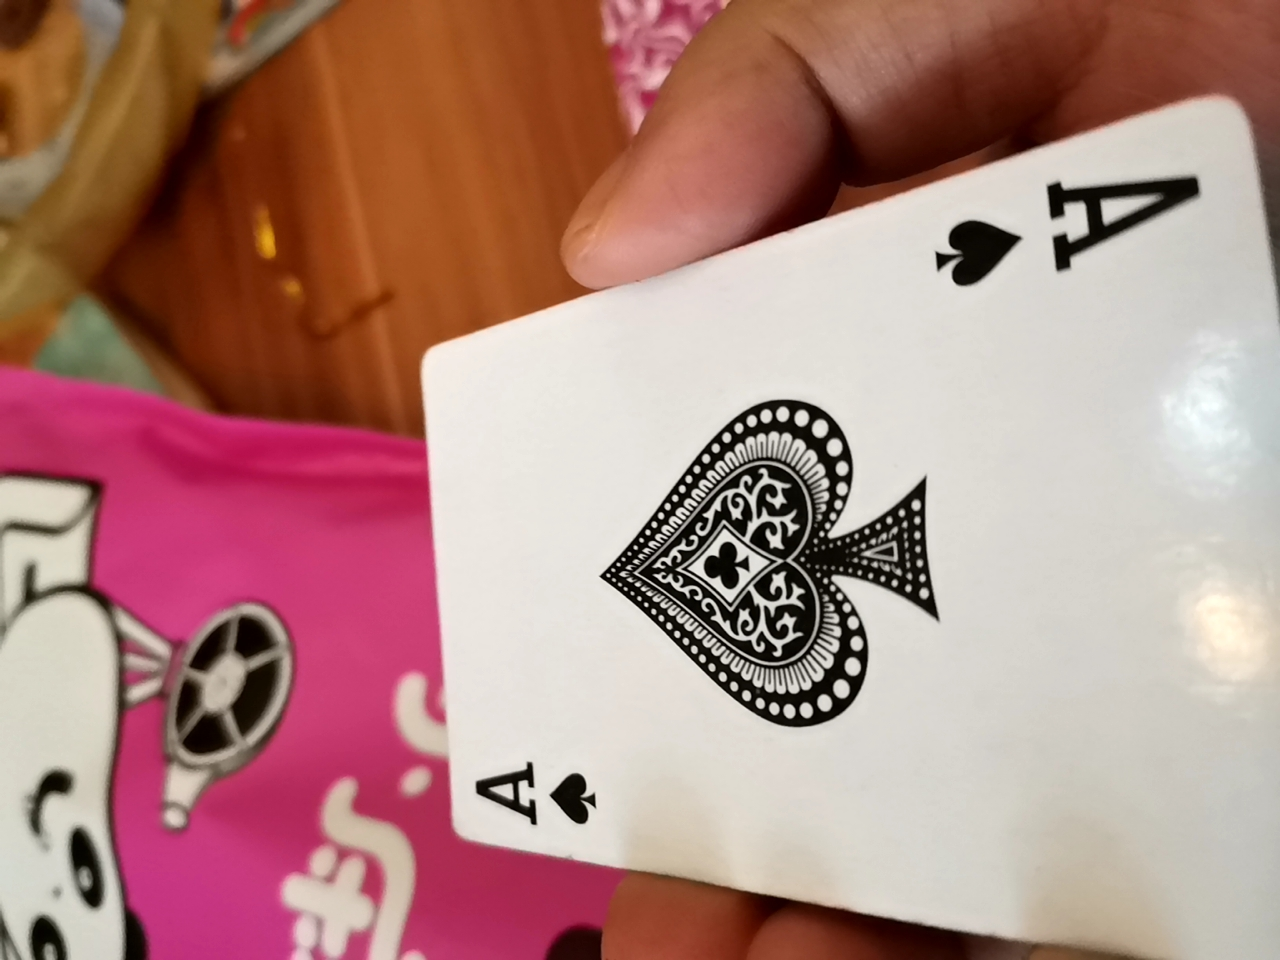ht a: (385, 101, 1263, 946)
